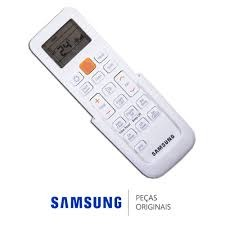remote control: (18, 13, 199, 181)
